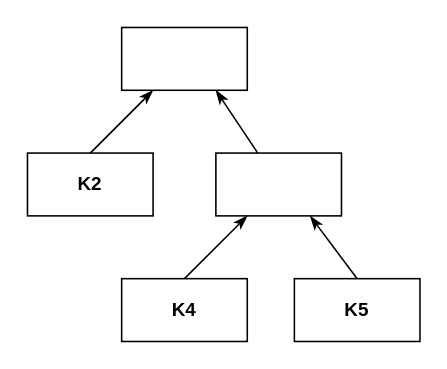
The diagram is 447 pixels wide and 369 high, and some of its shapes have lost their labels. The centre of each missing label's shape, as x and y in pixels:
"K1" goes at [183,58].
"K3" goes at [277,184].
